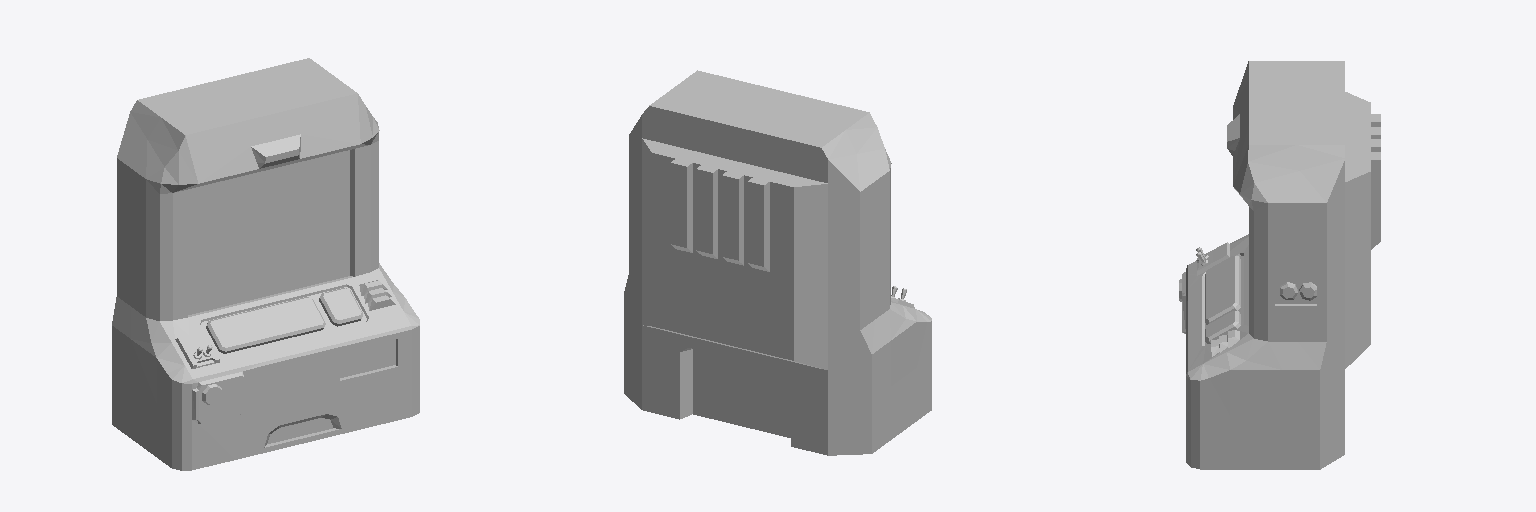
File: cyberterm.obj
3 renders of one model, left to right at view 1: azimuth 30°, elevation 25°; view 2: azimuth 150°, elevation 25°; view 3: azimuth 270°, elevation 25°, orthographic.
Parts seen in each view (by area): view 1: SubMesh_0.001; view 2: SubMesh_0.001; view 3: SubMesh_0.001.
Boxes of the visible parts, x1,y1,x2,y2 form: SubMesh_0.001: [112, 58, 419, 470]; SubMesh_0.001: [624, 70, 931, 455]; SubMesh_0.001: [1179, 61, 1380, 469].
Bounding box in the file's own units: 0.0388 × 0.0457 × 0.0274.